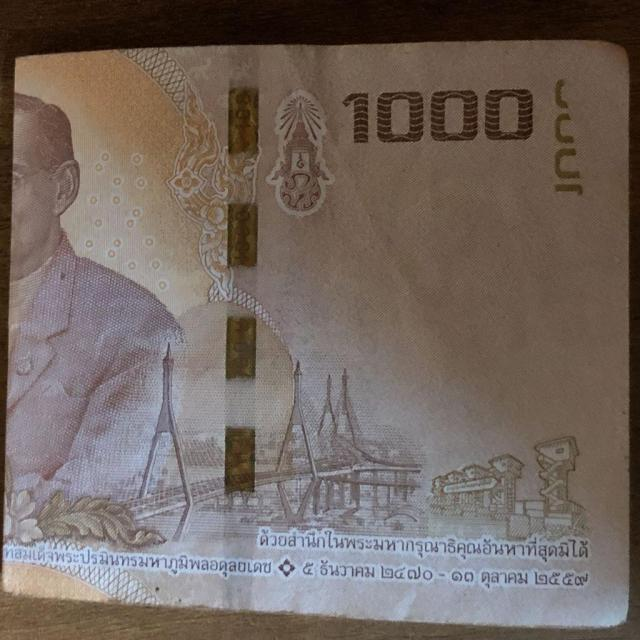THAI1000: (0, 41, 636, 636)
